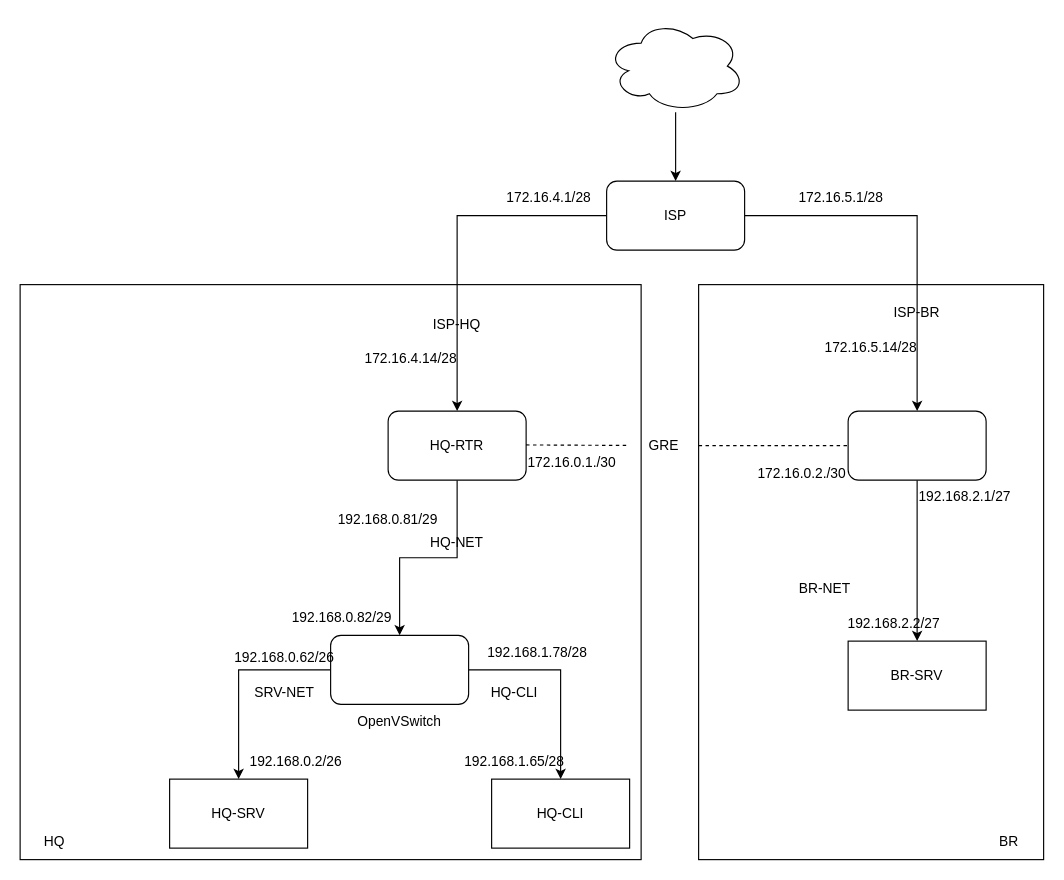
The diagram is 1064 pixels wide and 880 high, and some of its shapes have lost their labels. The centre of each missing label's shape, as x and y in pixels:
BR-RTR: (916,445)
HQ-SW: (399,669)
Internet: (675,65)
